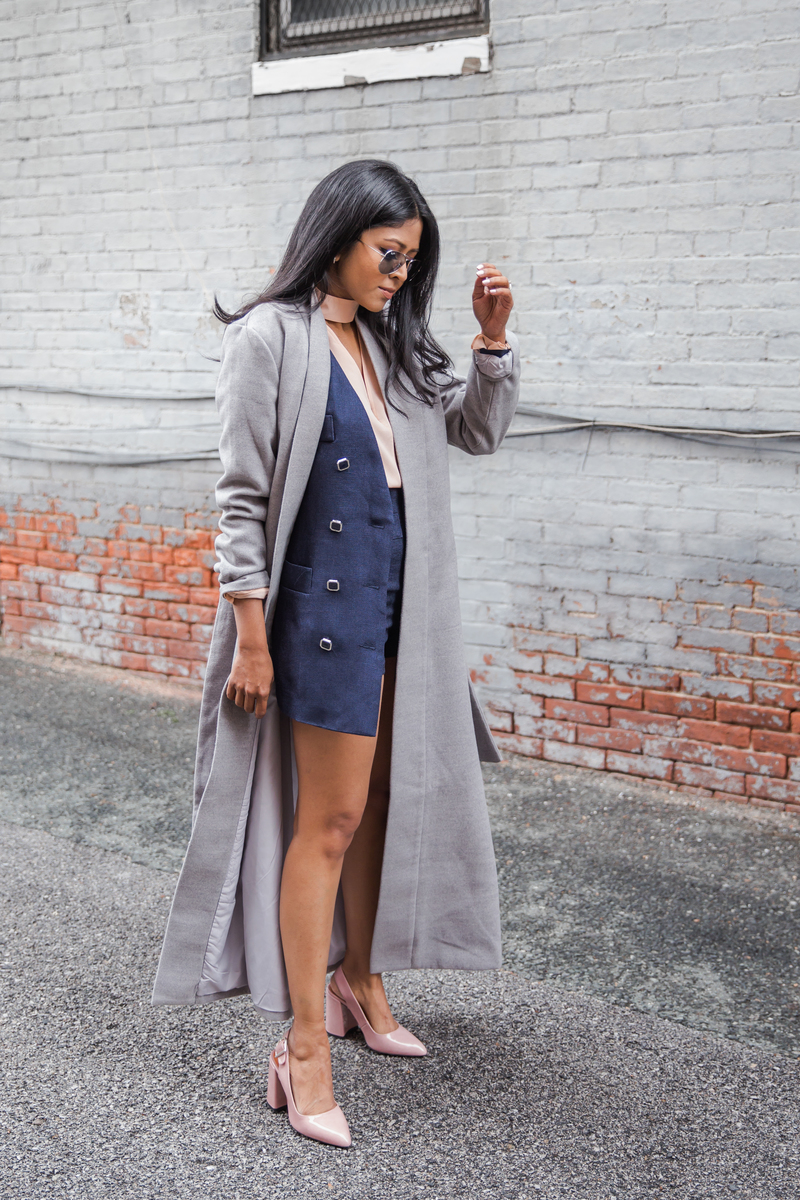feet: (245, 957, 441, 1152)
